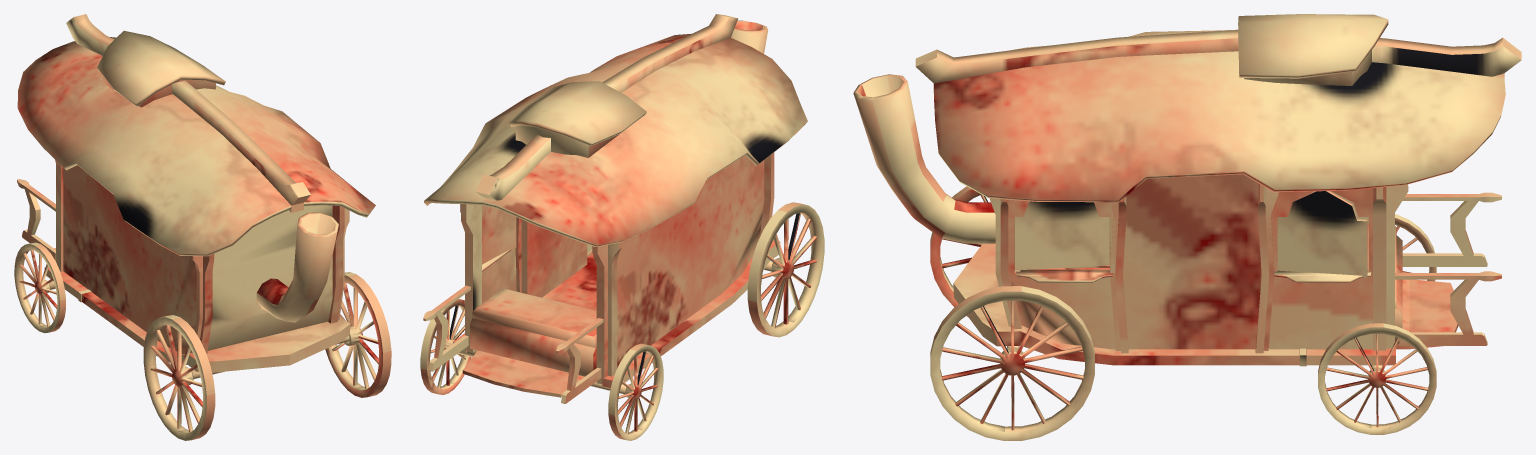
Rendered from merchant_car.fbx.
3 renders of one model, left to right at view 1: azimuth 30°, elevation 25°; view 2: azimuth 150°, elevation 25°; view 3: azimuth 270°, elevation 25°, orthographic. The views are drawn at different scales.
Parts seen in each view (by area): view 1: Cube.003, Cube.002, Cylinder.001, Cube.012, Cube.004, Cylinder.004, Cube, Cylinder.002, Cube.011, Cube.020, Cube.001, Cube.006; view 2: Cube.003, Cube.002, Cylinder.001, Cylinder.002, Cube.004, Cube.001, Cube, Cube.016, Cube.019, Cube.014, Cube.017, Cube.020 (+6 smaller); view 3: Cube.003, Cube.019, Cube.002, Cylinder.001, Cube, Cylinder.004, Cube.012, Cube.004, Cube.018, Cylinder.002, Cube.013, Cube.020 (+8 smaller).
Part boxes in pixels (box(x1,y1,x2,y2)): Cube.003: box(17, 37, 375, 256); Cube.002: box(63, 165, 332, 354); Cylinder.001: box(143, 272, 391, 440); Cube.012: box(44, 267, 350, 372); Cube.004: box(97, 30, 225, 106); Cylinder.004: box(256, 212, 338, 322); Cube: box(66, 14, 310, 212); Cylinder.002: box(14, 242, 65, 333); Cube.011: box(191, 205, 349, 353); Cube.020: box(17, 179, 55, 261); Cube.001: box(55, 160, 63, 271); Cube.006: box(103, 76, 215, 107); Cube.003: box(424, 33, 807, 246); Cube.002: box(482, 155, 764, 367); Cylinder.001: box(747, 202, 824, 337); Cylinder.002: box(420, 299, 663, 440); Cube.004: box(509, 81, 646, 146); Cube.001: box(460, 204, 621, 384); Cube: box(476, 14, 738, 200); Cube.016: box(472, 288, 596, 347); Cube.019: box(521, 219, 587, 297); Cube.014: box(470, 318, 596, 376); Cube.017: box(462, 350, 584, 397); Cube.020: box(423, 285, 603, 403); Cube.003: box(934, 29, 1505, 202); Cube.019: box(1123, 174, 1261, 349); Cube.002: box(1008, 188, 1372, 349); Cylinder.001: box(930, 186, 1094, 440); Cube: box(915, 30, 1521, 92); Cylinder.004: box(853, 74, 995, 243); Cube.012: box(953, 243, 1395, 366); Cube.004: box(1238, 14, 1388, 78); Cube.018: box(1277, 191, 1367, 277); Cylinder.002: box(1318, 214, 1436, 434); Cube.013: box(1014, 201, 1109, 270); Cube.020: box(1395, 192, 1501, 345).
Bounding box in the file's own units: 311 × 398 × 664.
